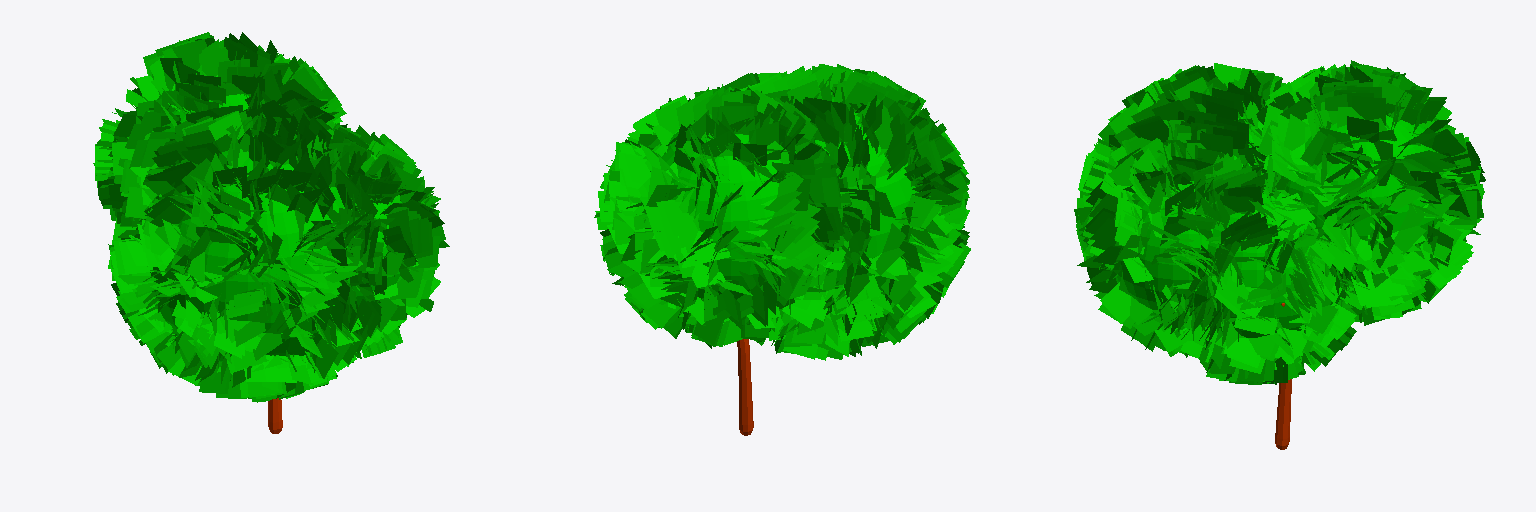
File: Tree2.obj
3 views of the same model, side by side, from view 1: azimuth 30°, elevation 25°; view 2: azimuth 150°, elevation 25°; view 3: azimuth 270°, elevation 25° (orthographic).
Visible parts, largest first — view 1: Leaves, Sphere.004; view 2: Leaves, Sphere.004, Cube.001; view 3: Leaves, Sphere.004, Cube.001.
Boxes of the visible parts, x1,y1,x2,y2 form: Leaves: [93, 32, 449, 402]; Sphere.004: [145, 88, 401, 366]; Leaves: [594, 64, 970, 360]; Sphere.004: [643, 97, 918, 304]; Cube.001: [737, 339, 753, 435]; Leaves: [1074, 60, 1485, 384]; Sphere.004: [1113, 115, 1443, 337]; Cube.001: [1275, 303, 1291, 449].
Size of the model in its own units: 8.74 by 9.73 by 9.89.